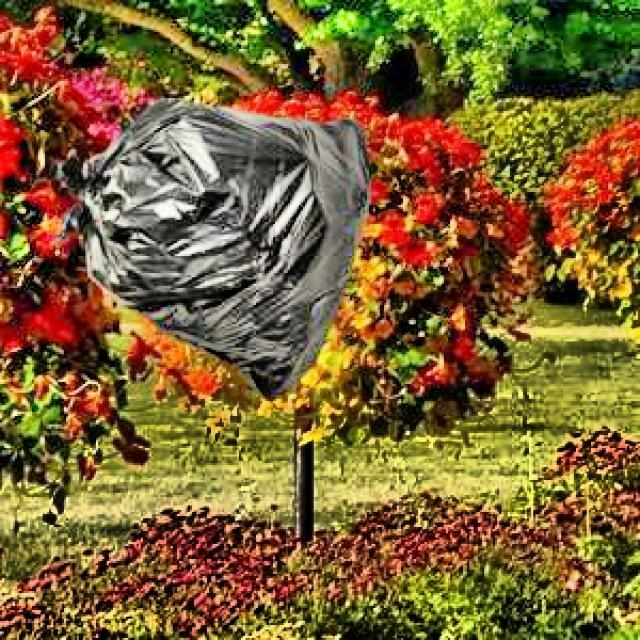Trashbag: (50, 88, 377, 404)
